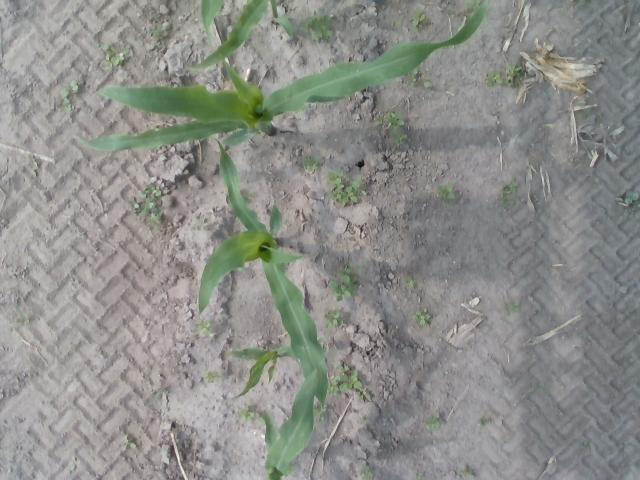Maize: (73, 7, 486, 152), (198, 140, 328, 409), (240, 369, 318, 480), (183, 1, 294, 72), (226, 346, 295, 400)
Weeds: (130, 183, 162, 218), (332, 172, 359, 204), (308, 16, 332, 41), (341, 370, 364, 392), (332, 282, 358, 300), (102, 44, 124, 64), (500, 183, 519, 206), (505, 64, 524, 84), (236, 406, 254, 423), (120, 434, 136, 450), (486, 70, 502, 86), (412, 311, 431, 324), (324, 309, 340, 324), (388, 114, 405, 127), (414, 10, 426, 28), (338, 268, 351, 282), (626, 192, 640, 205), (438, 185, 453, 197), (196, 320, 212, 331), (308, 158, 320, 172), (153, 29, 168, 40), (509, 300, 522, 312), (428, 415, 440, 427), (14, 313, 26, 325), (372, 114, 384, 126), (362, 466, 372, 480), (405, 275, 416, 287), (204, 371, 217, 381), (398, 134, 408, 146), (330, 379, 339, 392), (71, 81, 81, 92), (69, 458, 79, 469), (414, 69, 421, 83), (62, 92, 70, 103), (464, 471, 475, 479), (414, 472, 424, 479), (424, 81, 432, 89), (358, 418, 368, 424)
